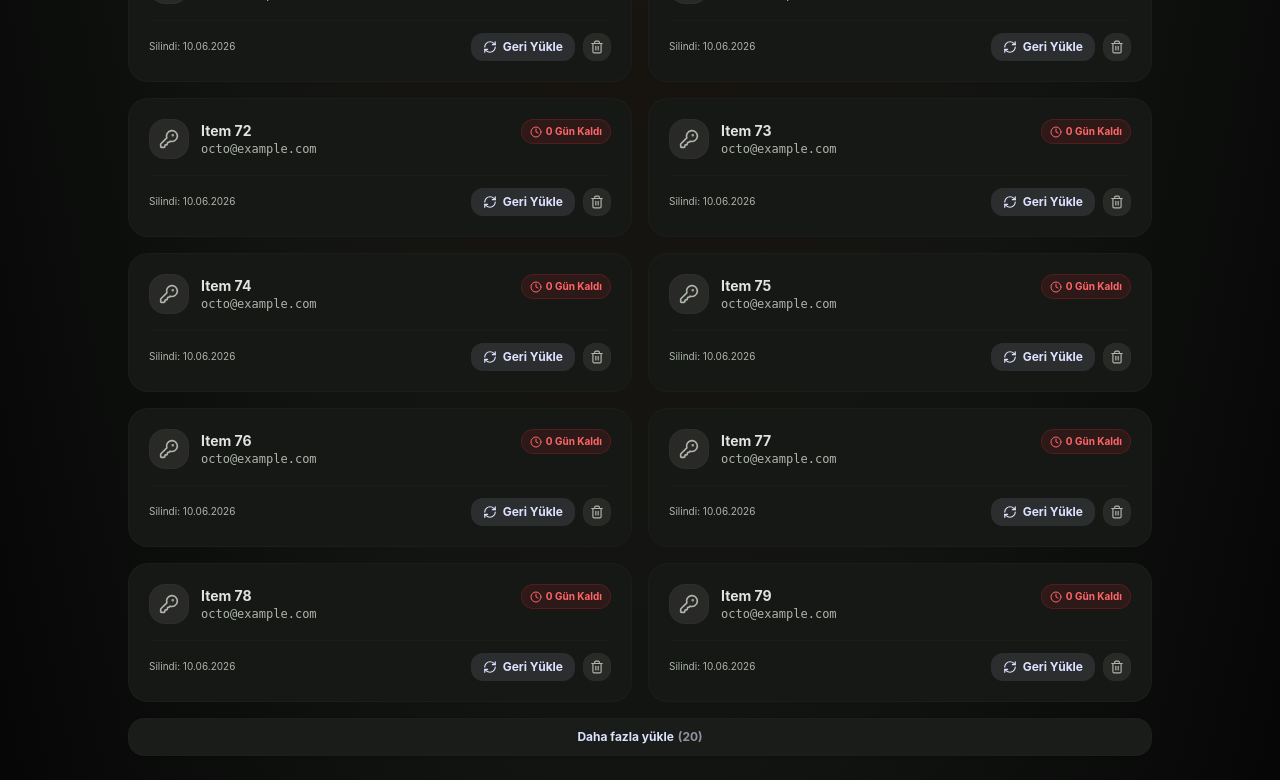
Test: TrashWorkspace › paginates long trash lists through the load-more button
(page scrolled)
Expected: the text "Item 99" is not shown
Click the button "Daha fazla yükle (20)": point(640, 737) [128,718,1152,756]
(page scrolled)
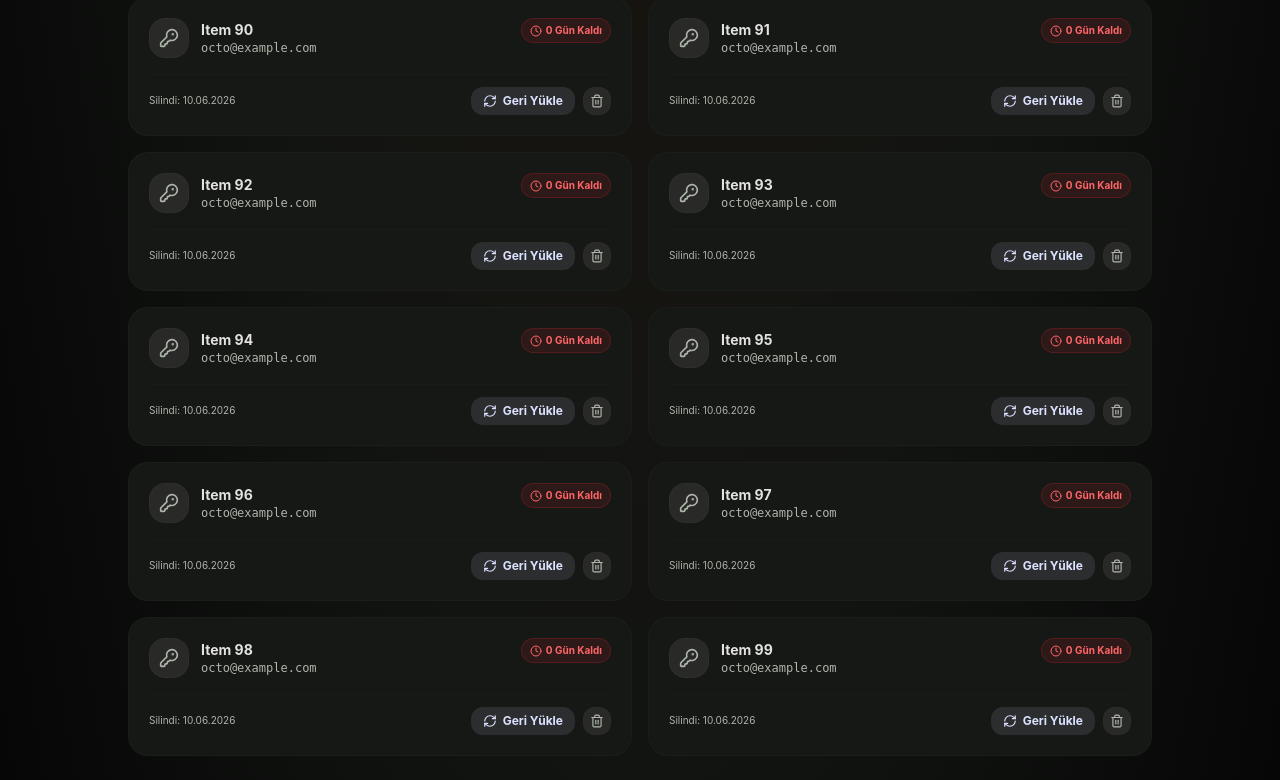
Expected: the heading "Item 99" is shown, [721,641,773,658]
Expected: the button "Daha fazla yükle" is gone
